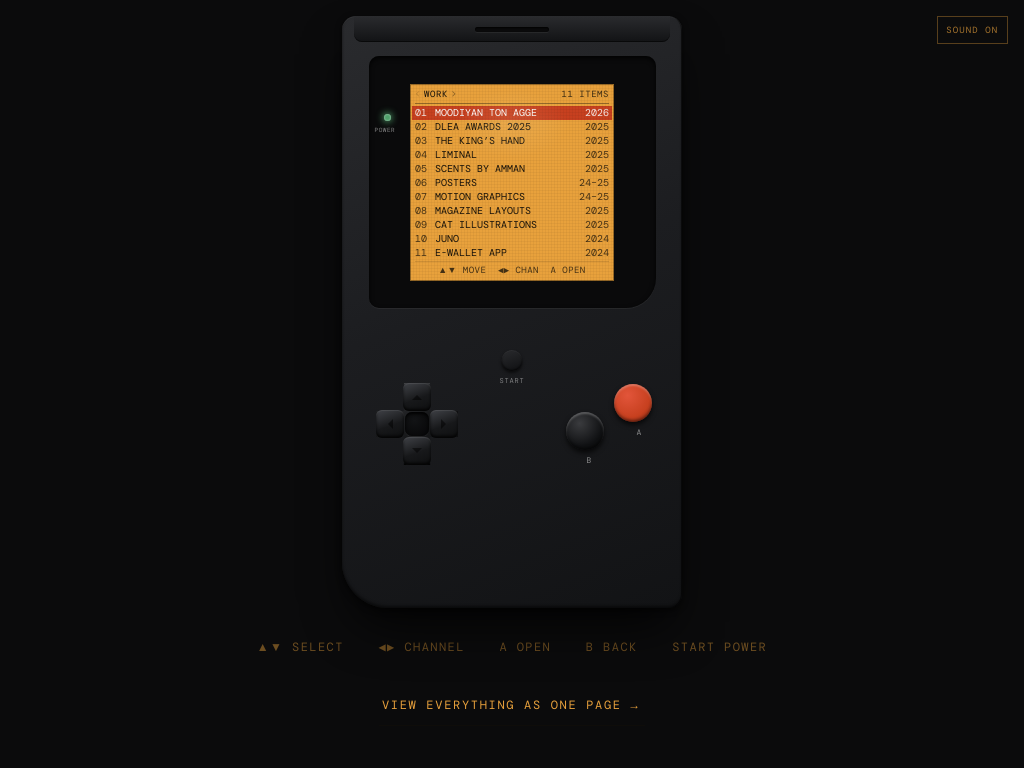
START › shuts the screen down and boots it again
The image size is (1024, 768).
Expected: the list is shown, [415,104,609,260]
Click the button named "Start — turn the console on or off".
click(512, 360)  # box [502,350,522,371]
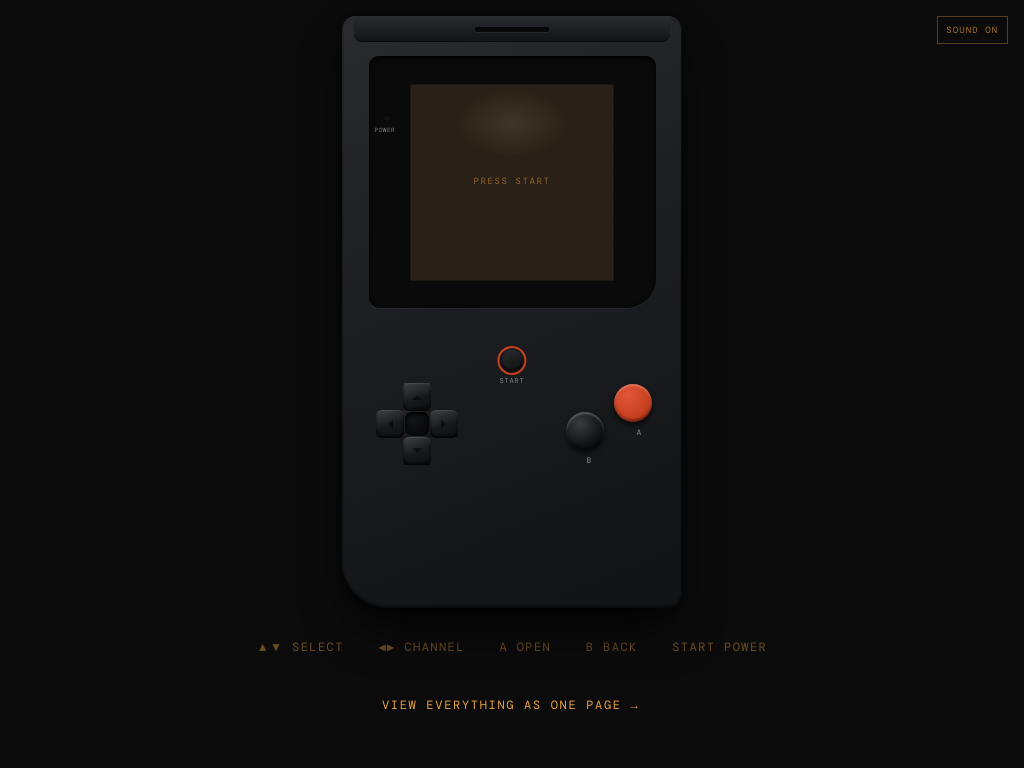
Now the text "PRESS START" is shown, box [473,176,551,188]
Click the button named "Start — turn the console on or off".
click(512, 360)  # box [502,350,522,371]
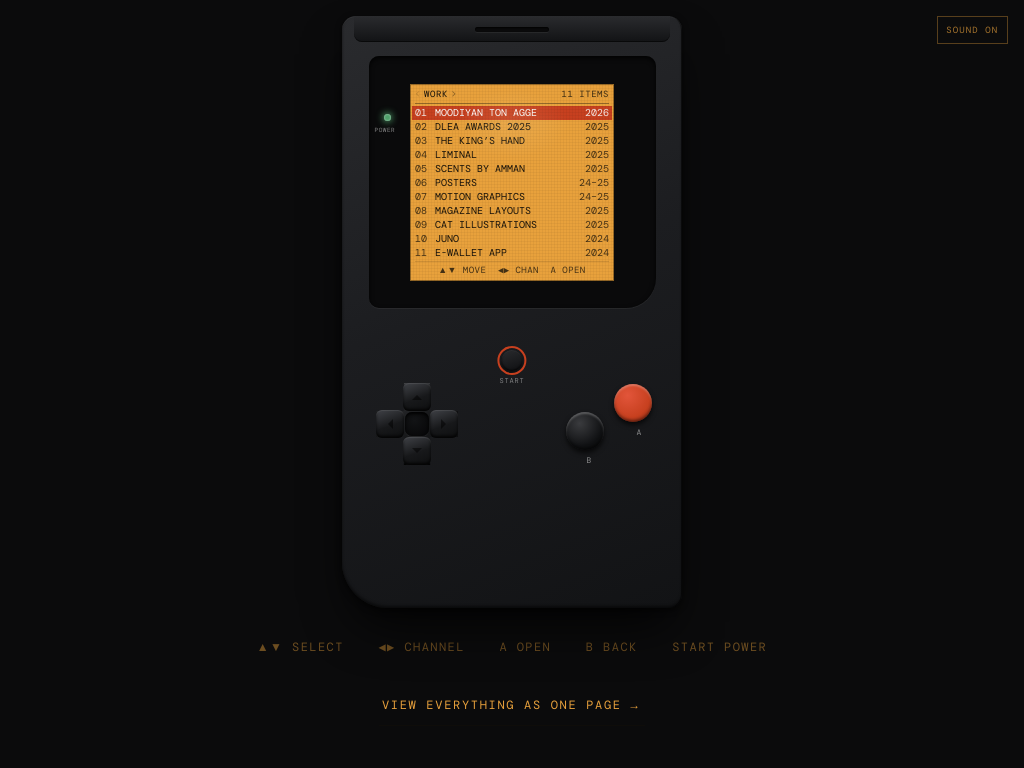
Now the list is shown, box [415,104,609,260]
